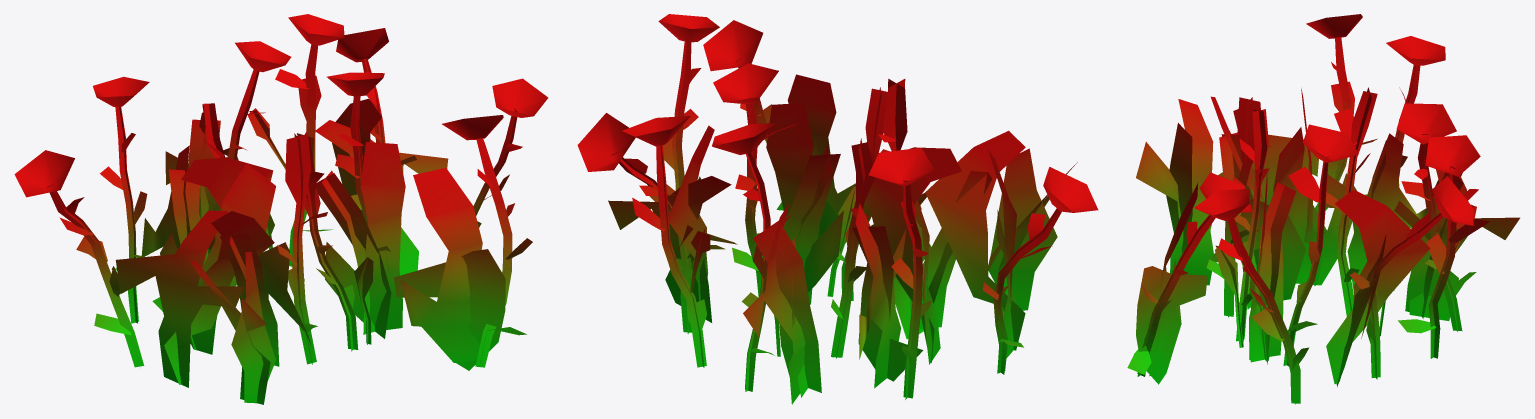
File: Var7_LOD0.fbx
3 renders of one model, left to right at view 1: azimuth 30°, elevation 25°; view 2: azimuth 150°, elevation 25°; view 3: azimuth 270°, elevation 25°, orthographic. The views are drawn at different scales.
Visible parts, largest first — view 1: _76cc_Var7_LOD0; view 2: _76cc_Var7_LOD0; view 3: _76cc_Var7_LOD0.
Part boxes in pixels (box(x1,y1,x2,y2)): _76cc_Var7_LOD0: box(14, 14, 548, 404); _76cc_Var7_LOD0: box(577, 14, 1098, 404); _76cc_Var7_LOD0: box(1127, 14, 1519, 404).
Bounding box in the file's own units: 17.79 × 8.97 × 13.37.
